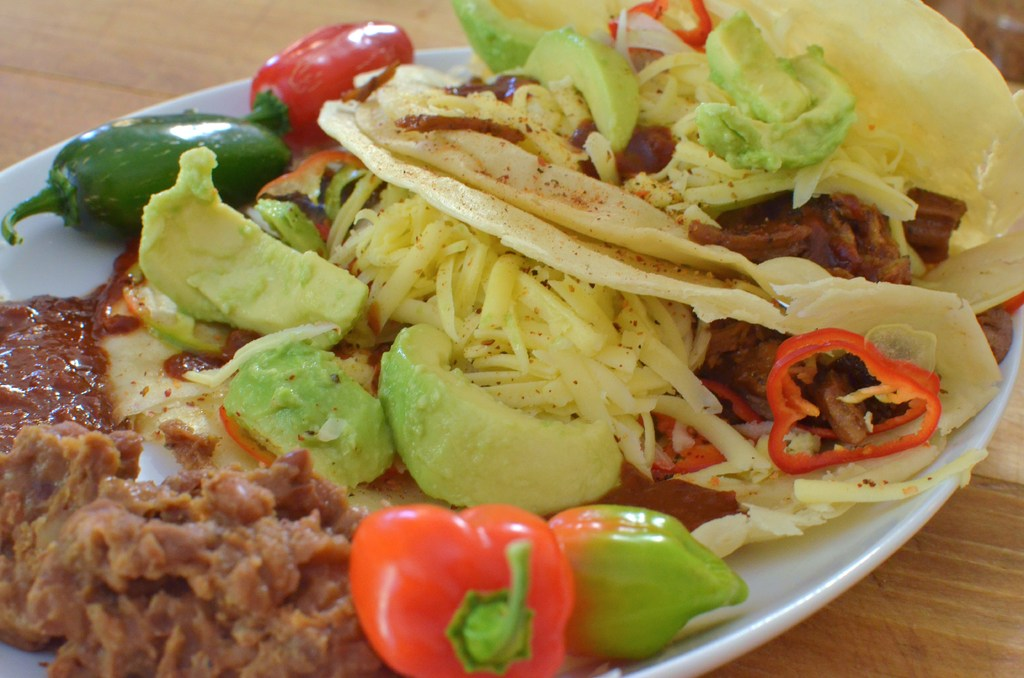taco: (95, 97, 1002, 563)
